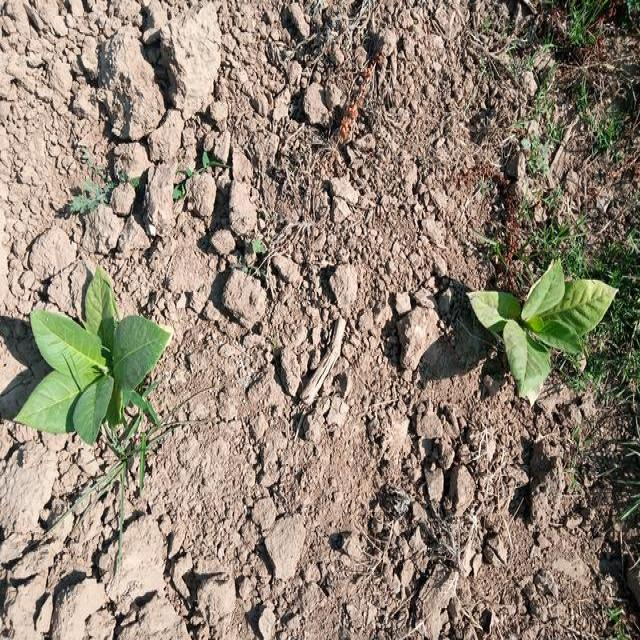crop: (13, 268, 174, 444), (467, 251, 618, 406)
